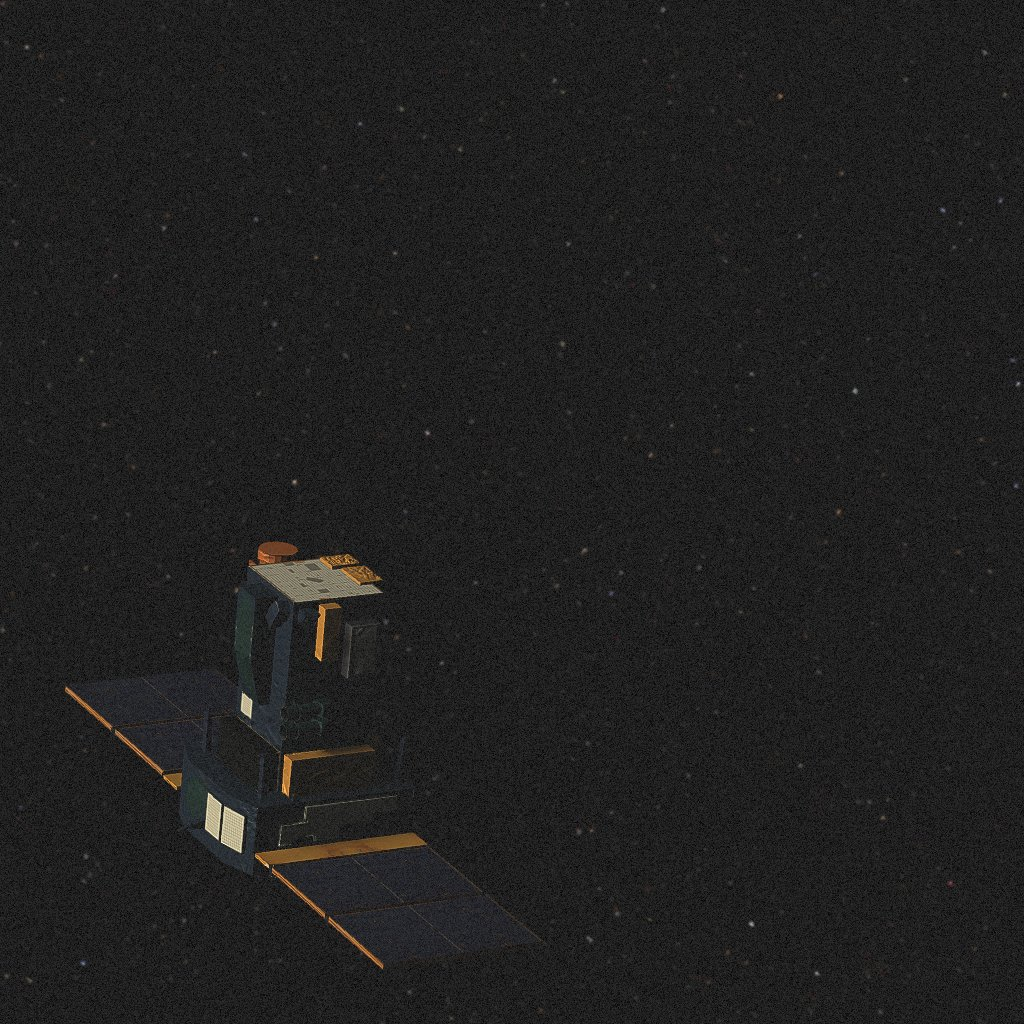soho: (65, 542, 543, 970)
